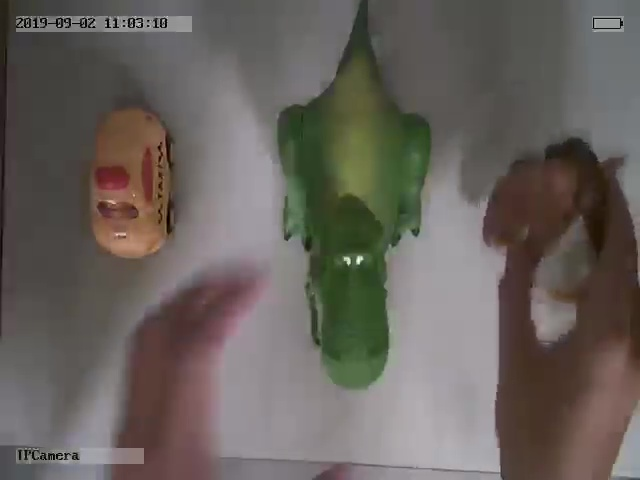car: (87, 101, 178, 258)
rex: (277, 1, 435, 389)
